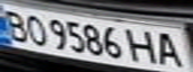5: (63, 19, 84, 54)
6: (100, 24, 127, 61)
8: (81, 23, 106, 57)
9: (42, 16, 69, 52)
A: (151, 29, 190, 69)
B: (0, 6, 33, 43)
H: (127, 26, 163, 65)
O: (21, 12, 51, 47)
